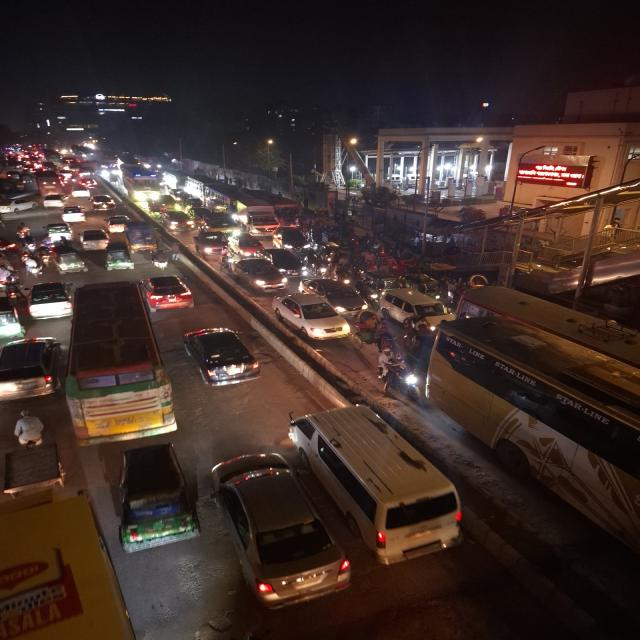bus: (71, 283, 174, 446), (123, 168, 158, 202), (205, 186, 235, 213), (278, 199, 304, 227), (186, 177, 216, 200)
car: (289, 410, 469, 566), (201, 443, 347, 607), (184, 322, 264, 397), (275, 294, 347, 346), (0, 339, 61, 396), (141, 272, 197, 316), (306, 279, 366, 320), (386, 289, 449, 326), (22, 282, 74, 320), (233, 260, 285, 296), (273, 230, 311, 253), (236, 232, 265, 262), (80, 229, 110, 251), (166, 210, 192, 232), (44, 191, 70, 211), (4, 199, 38, 214), (59, 206, 88, 223), (88, 195, 117, 212), (45, 223, 69, 239), (107, 214, 126, 234)
cng: (110, 452, 202, 551), (99, 243, 135, 272), (52, 249, 87, 277)
motorcycle: (373, 349, 425, 403), (19, 254, 44, 280), (146, 247, 169, 272), (216, 247, 236, 273), (4, 278, 21, 303)
pedestrian: (168, 238, 183, 262)
pickup_van: (0, 418, 67, 498), (188, 231, 232, 257)
rickshaw: (353, 312, 397, 356)
truck: (237, 200, 280, 238), (197, 209, 240, 235), (125, 222, 159, 251)
